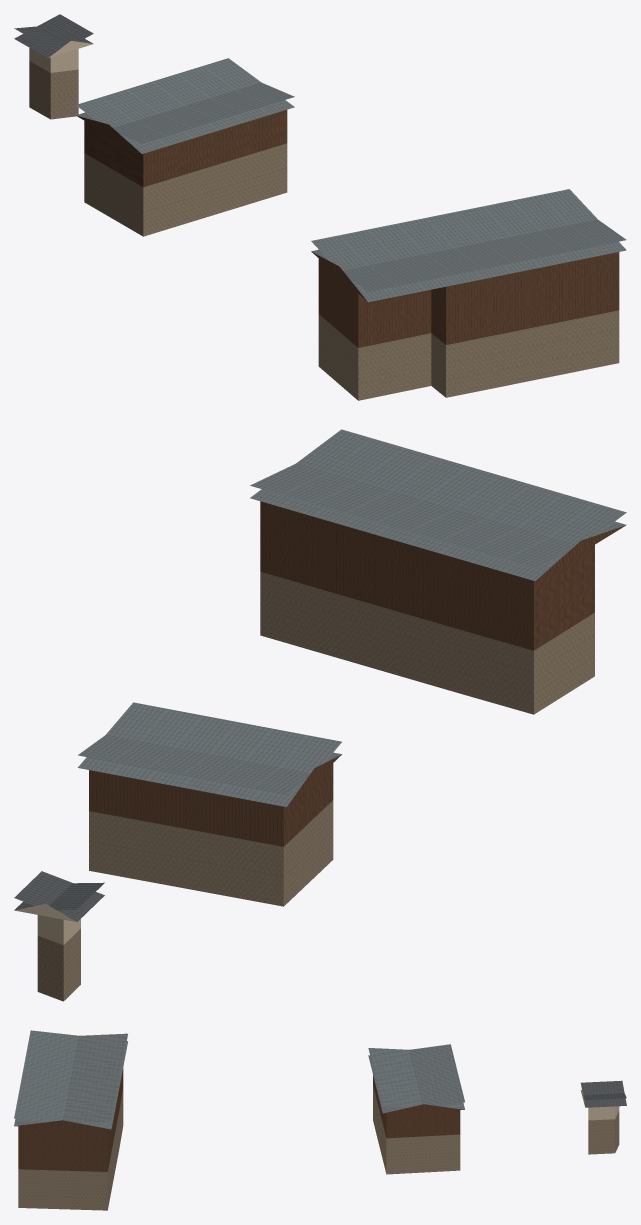
File: bld_c23_47_394.gltf
3 views of the same model, one above another, from view 1: azimuth 30°, elevation 25°; view 2: azimuth 150°, elevation 25°; view 3: azimuth 270°, elevation 25° (orthographic). The views are drawn at different scales.
Visible parts, largest first — view 1: bld_c23_47_394; view 2: bld_c23_47_394; view 3: bld_c23_47_394.
Part boxes in pixels (bbox=[...]): bld_c23_47_394: bbox=[14, 14, 626, 400]; bld_c23_47_394: bbox=[14, 429, 626, 1001]; bld_c23_47_394: bbox=[14, 1030, 626, 1210].
Bounding box in the file's own units: 26.53 × 12.1 × 73.36.
Materials: 7 (7 with a texture image).
